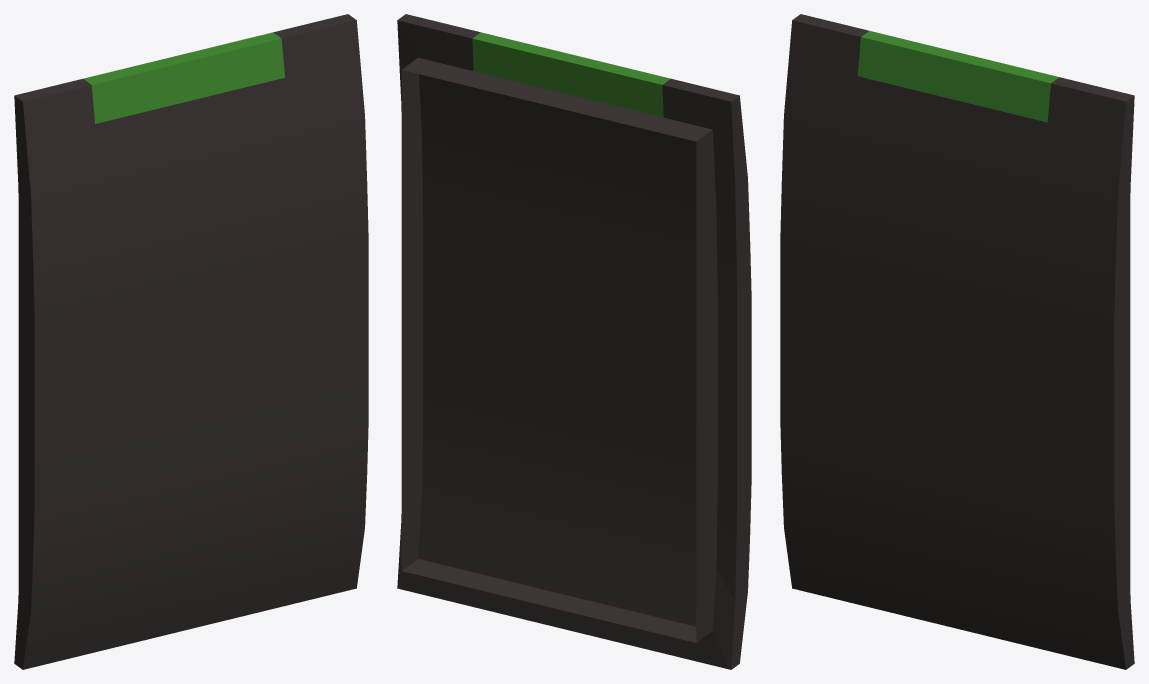
File: Keypad.fbx
3 views of the same model, side by side, from view 1: azimuth 30°, elevation 25°; view 2: azimuth 150°, elevation 25°; view 3: azimuth 330°, elevation 25° (orthographic).
Parts seen in each view (by area): view 1: pCube4, pCube3; view 2: pCube4, pCube3; view 3: pCube4, pCube3.
Boxes of the visible parts, <box> form: pCube4: <box>14,14,368,669</box>; pCube3: <box>83,32,284,123</box>; pCube4: <box>397,14,751,669</box>; pCube3: <box>472,32,670,117</box>; pCube4: <box>780,14,1134,669</box>; pCube3: <box>857,31,1059,122</box>.
Bounding box in the file's own units: 3.66 × 5.96 × 0.6806.
